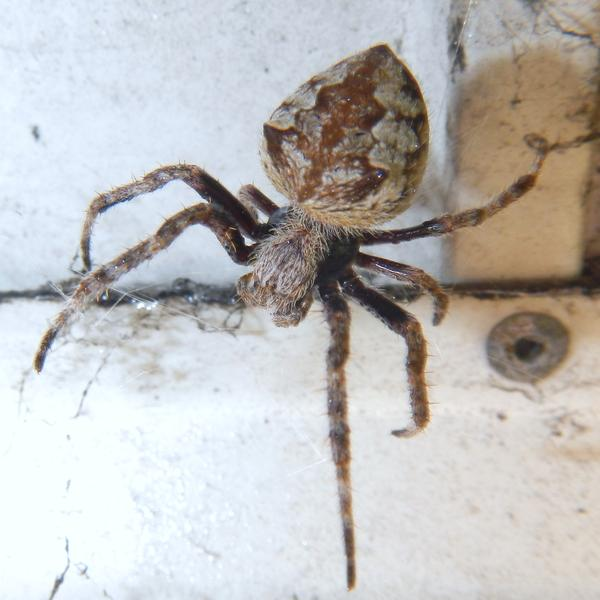Garden Orb Weaver Spider: (57, 47, 518, 569)
